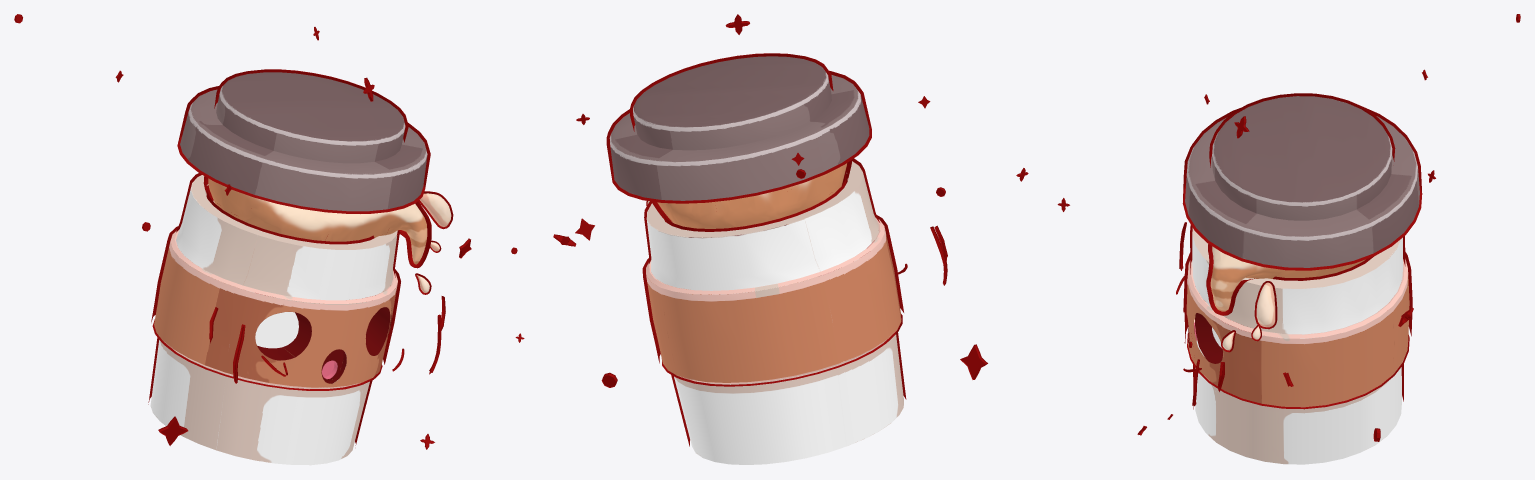
File: cophee.glb
The picture shows the model from 3 angles, left to right: view 1: azimuth 30°, elevation 25°; view 2: azimuth 150°, elevation 25°; view 3: azimuth 270°, elevation 25°; orthographic projection. The views are drawn at different scales.
Visible parts, largest first — view 1: Cilindro.001_2, Cilindro.003_3, Cilindro.006_6, Cilindro_0, Esfera_11, Cilindro.011_13, Cilindro.005_5, Cilindro.004_4, Esfera.001_12, GP_Layer.002_17; view 2: Cilindro.001_2, Cilindro.003_3, Cilindro.006_6, Cilindro_0, Esfera_11, Cilindro.004_4; view 3: Cilindro.001_2, Cilindro.003_3, Cilindro.006_6, Cilindro_0, Esfera_11, Cilindro.004_4, Esfera.001_12, Cilindro.011_13, GP_Layer.002_17.
Part boxes in pixels (bbox=[...]): Cilindro.001_2: bbox=[177, 69, 430, 213]; Cilindro.003_3: bbox=[151, 226, 400, 387]; Cilindro.006_6: bbox=[148, 337, 372, 465]; Cilindro_0: bbox=[152, 173, 399, 390]; Esfera_11: bbox=[203, 176, 431, 268]; Cilindro.011_13: bbox=[257, 295, 391, 360]; Cilindro.005_5: bbox=[250, 291, 298, 348]; Cilindro.004_4: bbox=[170, 229, 397, 303]; Esfera.001_12: bbox=[418, 191, 453, 229]; GP_Layer.002_17: bbox=[209, 296, 445, 383]; Cilindro.001_2: bbox=[606, 53, 871, 203]; Cilindro.003_3: bbox=[642, 215, 903, 382]; Cilindro.006_6: bbox=[671, 332, 906, 464]; Cilindro_0: bbox=[644, 158, 902, 386]; Esfera_11: bbox=[651, 160, 851, 228]; Cilindro.004_4: bbox=[646, 218, 884, 294]; Cilindro.001_2: bbox=[1182, 93, 1422, 270]; Cilindro.003_3: bbox=[1183, 252, 1412, 407]; Cilindro.006_6: bbox=[1193, 315, 1403, 464]; Cilindro_0: bbox=[1187, 225, 1409, 409]; Esfera_11: bbox=[1206, 244, 1365, 315]; Cilindro.004_4: bbox=[1187, 259, 1407, 338]; Esfera.001_12: bbox=[1254, 281, 1277, 329]; Cilindro.011_13: bbox=[1195, 313, 1238, 363]; GP_Layer.002_17: bbox=[1179, 222, 1224, 406].
Size of the model in its own units: 3.94 by 4 by 4.72.
Materials: 6 (4 with a texture image).
